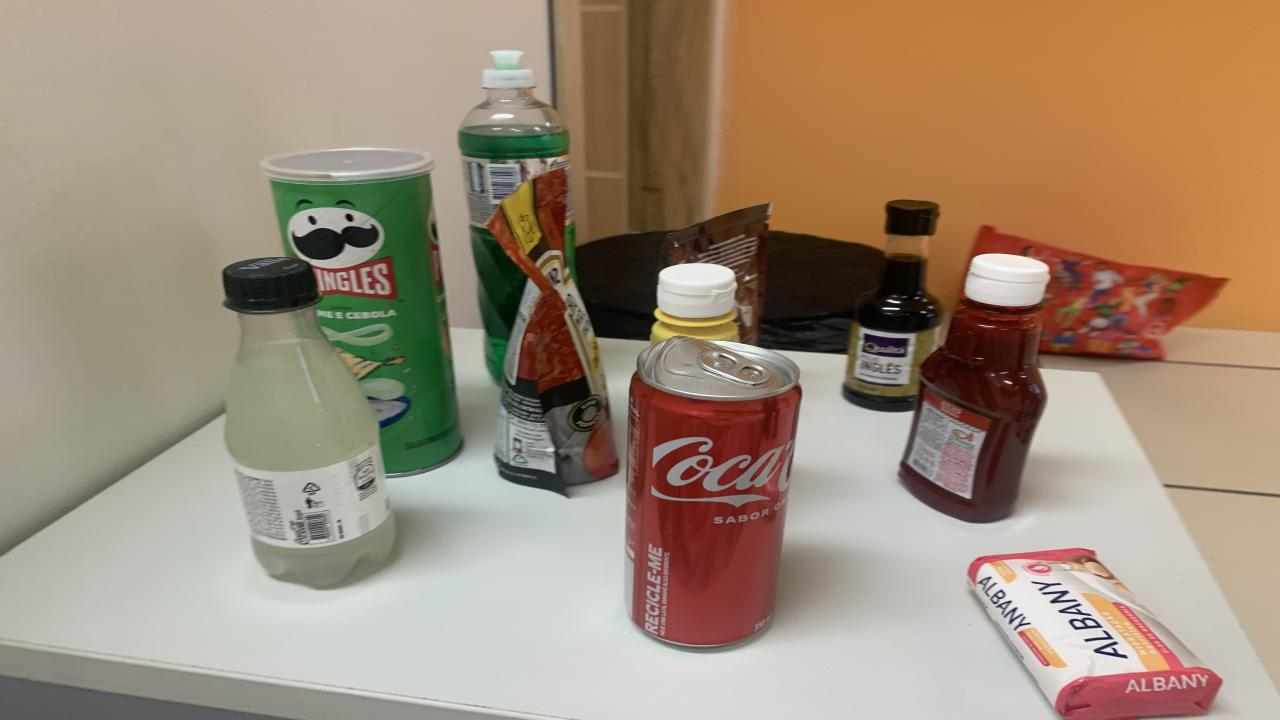Coffee-Pantry_Items: (665, 202, 772, 345)
Coke-Drinks: (625, 336, 802, 647)
Detergent-Cleanup_Items: (458, 51, 570, 382)
English_Sauce-Pantry_Items: (842, 201, 942, 411)
Ketchup-Pantry_Items: (900, 255, 1050, 523)
Mustard-Pantry_Items: (650, 262, 740, 345)
Pringles-Snacks: (260, 148, 462, 474)
Soap-Cleanup_Items: (968, 548, 1220, 718)
Soda-Drinks: (222, 257, 395, 587)
Tomato_Sauce-Pantry_Items: (490, 171, 620, 493)
